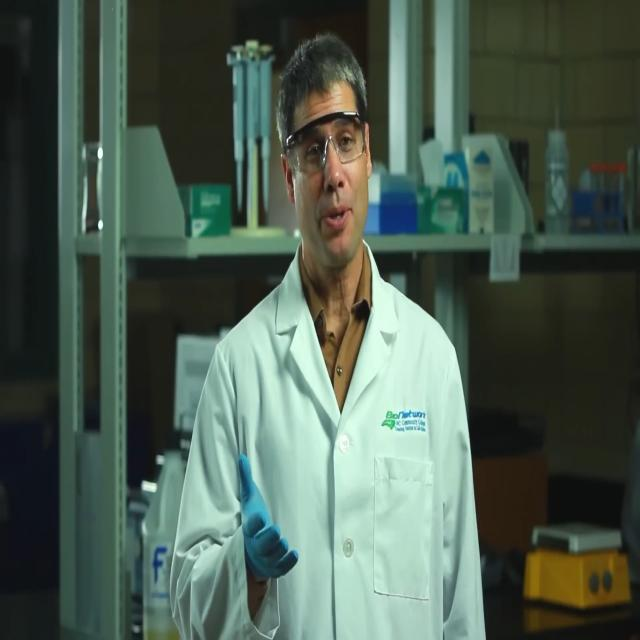googles: (277, 102, 373, 180)
labcoat: (166, 223, 491, 640)
